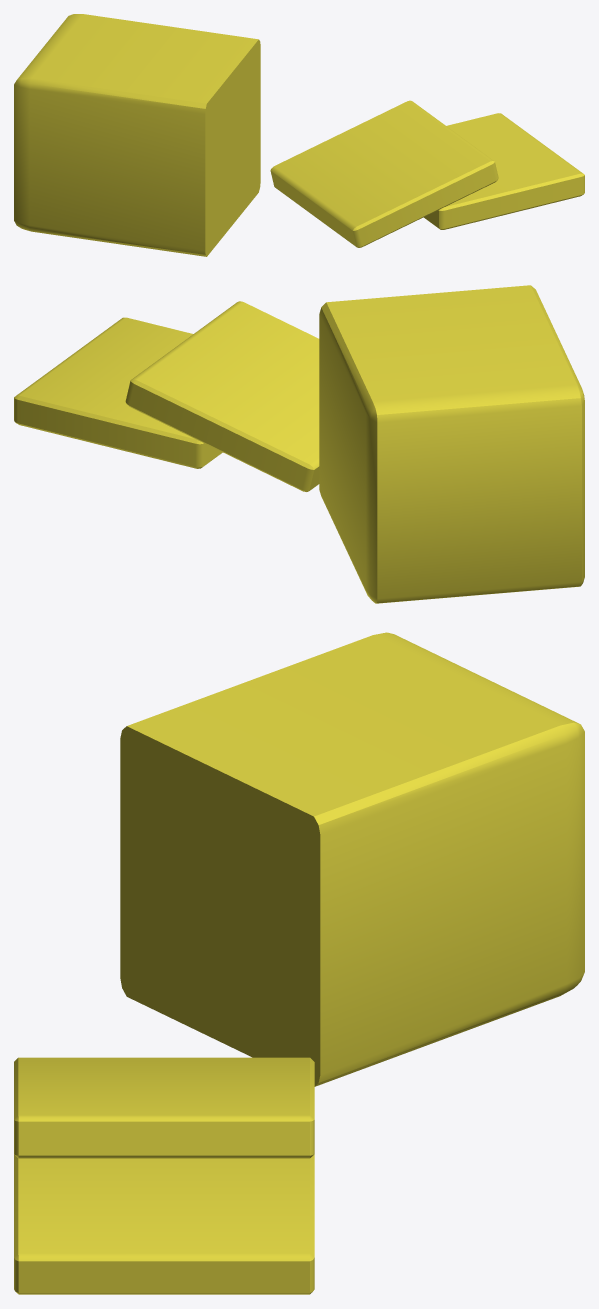
File: butter.fbx
3 renders of one model, top to bottom at view 1: azimuth 30°, elevation 25°; view 2: azimuth 150°, elevation 25°; view 3: azimuth 270°, elevation 25°, orthographic. The views are drawn at different scales.
Visible parts, largest first — view 1: cut up butter; view 2: cut up butter; view 3: cut up butter.
Boxes of the visible parts, box(x1,y1,x2,y2) form: cut up butter: box(14, 14, 584, 256); cut up butter: box(14, 285, 584, 603); cut up butter: box(14, 632, 584, 1294).
Bounding box in the file's own units: 13.68 × 4.35 × 8.26.
